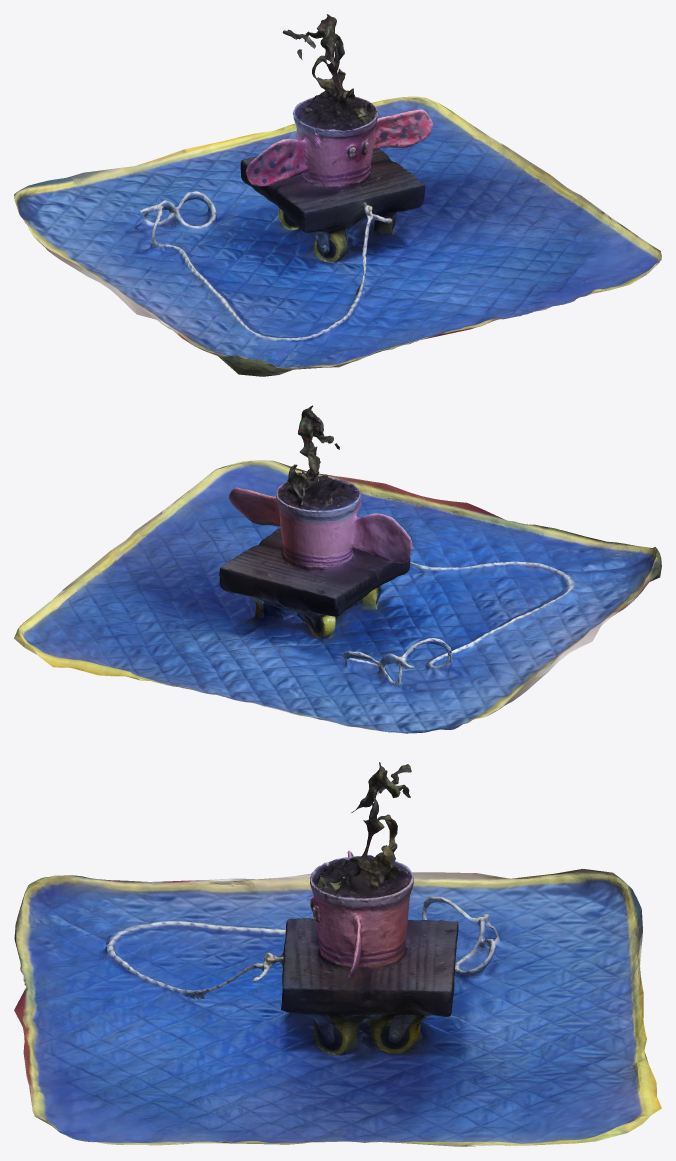
The model's file is orejon.glb.
3 views of the same model, one above another, from view 1: azimuth 30°, elevation 25°; view 2: azimuth 150°, elevation 25°; view 3: azimuth 270°, elevation 25° (orthographic). The views are drawn at different scales.
Size of the model in its own units: 1.39 by 0.6293 by 1.39.
1 material, 1 textured.
